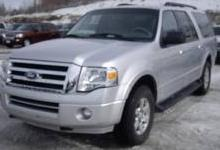front_view: (3, 56, 127, 127)
headlight: (68, 58, 122, 101)
side_glass: (149, 8, 208, 48)
